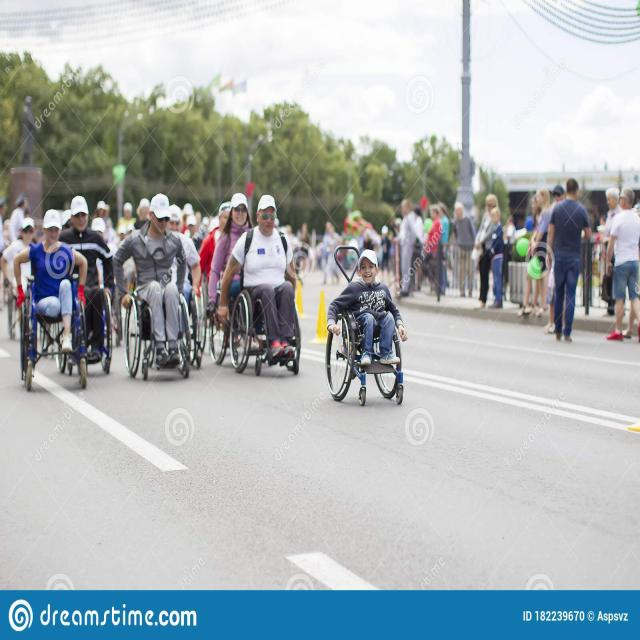wheelchairs: (322, 298, 412, 413), (16, 278, 88, 399), (228, 289, 306, 378), (124, 282, 194, 381)
